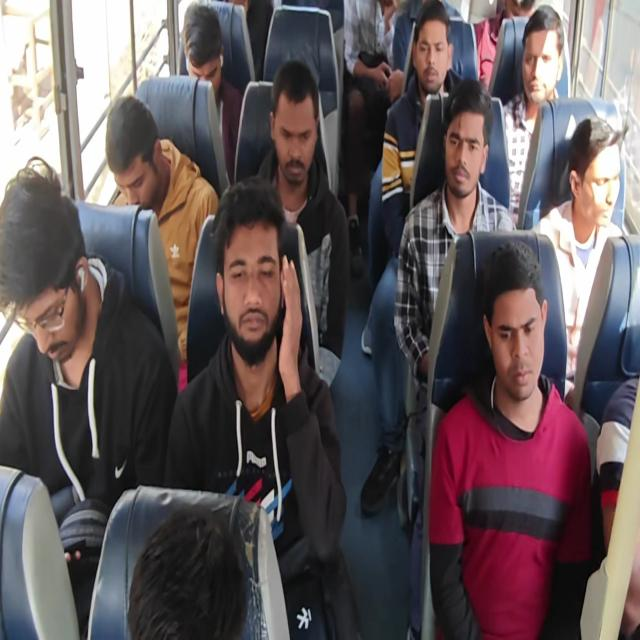person: (120, 512, 268, 640), (0, 170, 97, 365), (214, 180, 281, 345), (489, 250, 550, 396), (104, 94, 174, 214), (272, 78, 326, 188), (169, 2, 227, 98), (566, 134, 619, 239), (512, 9, 566, 106), (449, 95, 483, 202), (413, 24, 462, 98), (486, 0, 547, 22)
